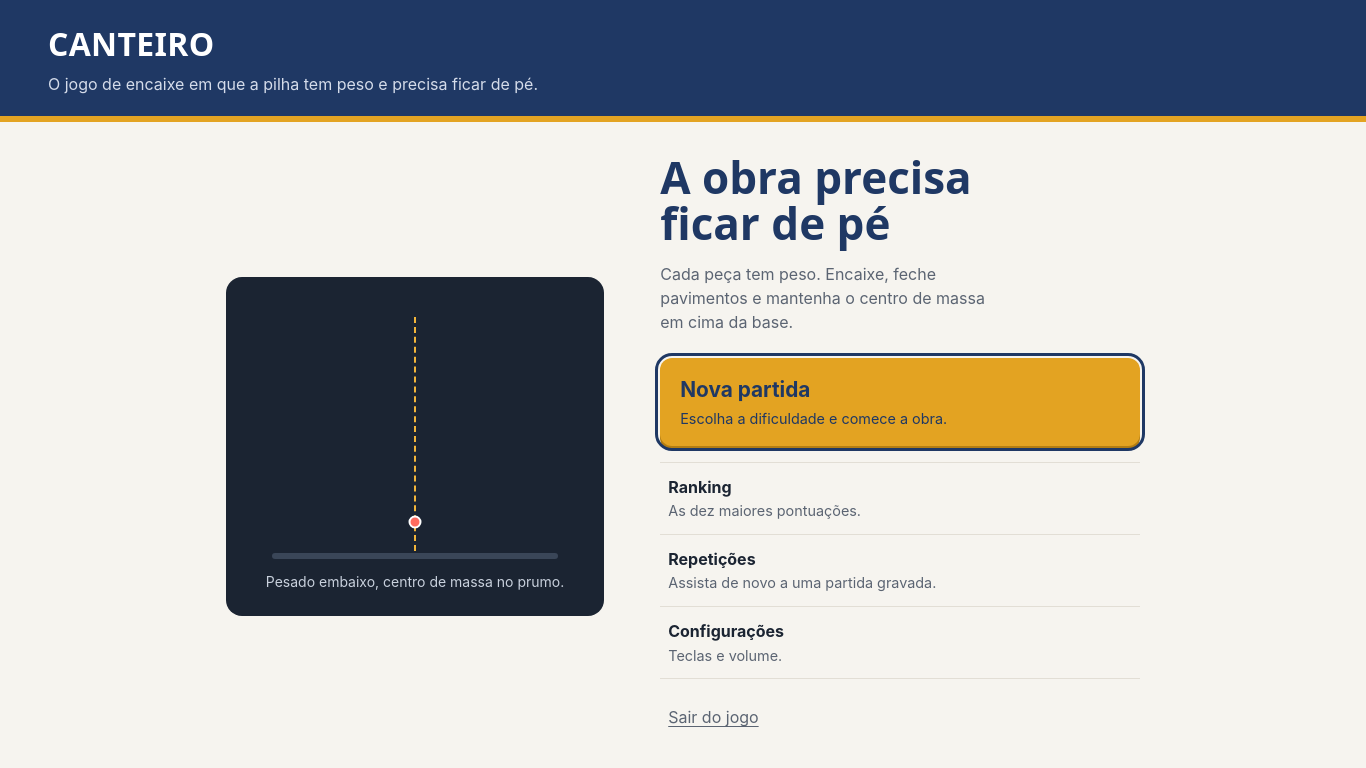
Test: App › sair explica que a aba pode ser fechada
The image size is (1366, 768).
Click the button "Sair do jogo" at (713, 717), box [660,695,767,739]
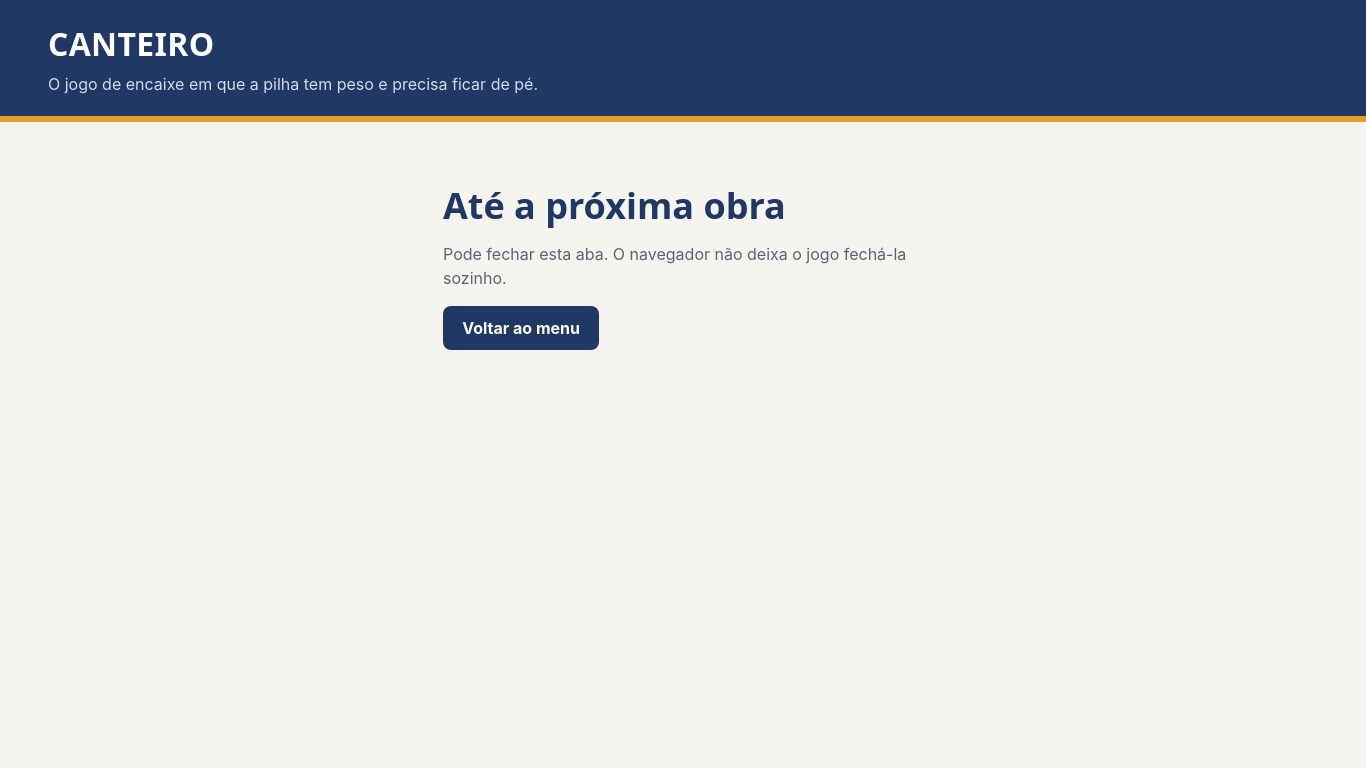
Now the text "Pode fechar esta aba" is shown, box [443,244,906,288]
